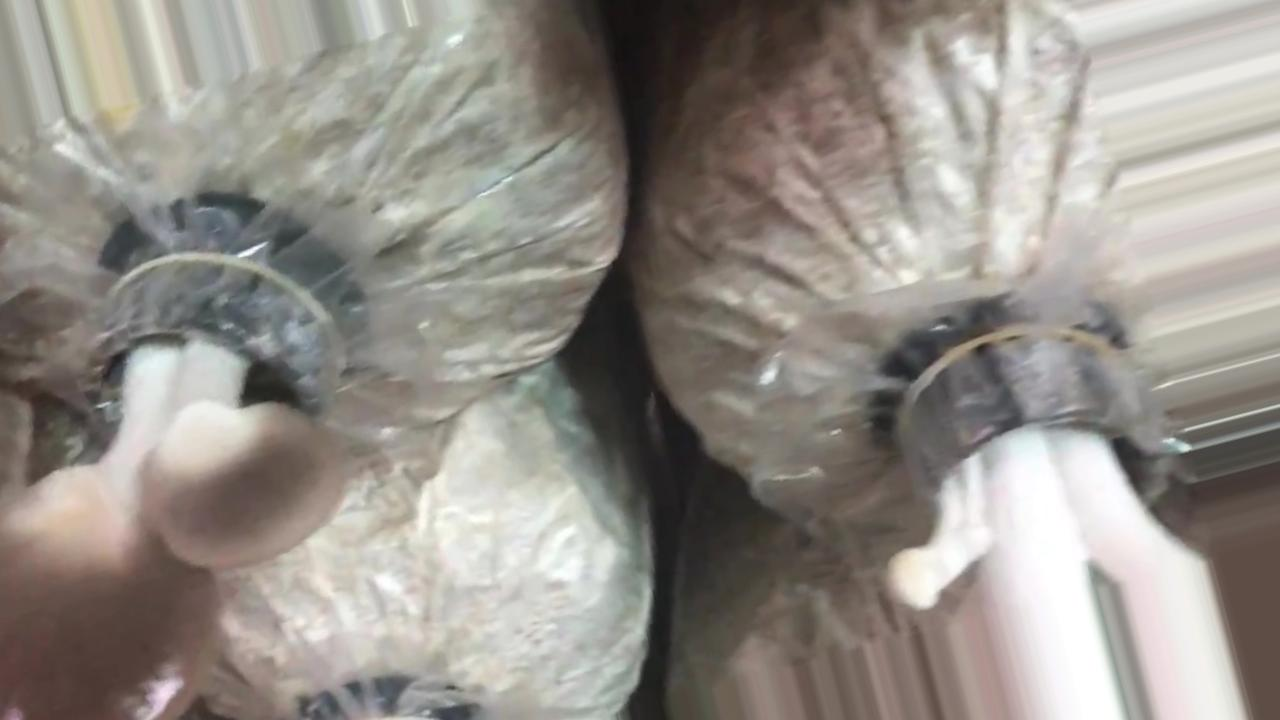nam: (1, 246, 357, 720)
